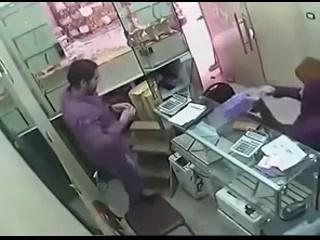Normal: (61, 59, 158, 225)
